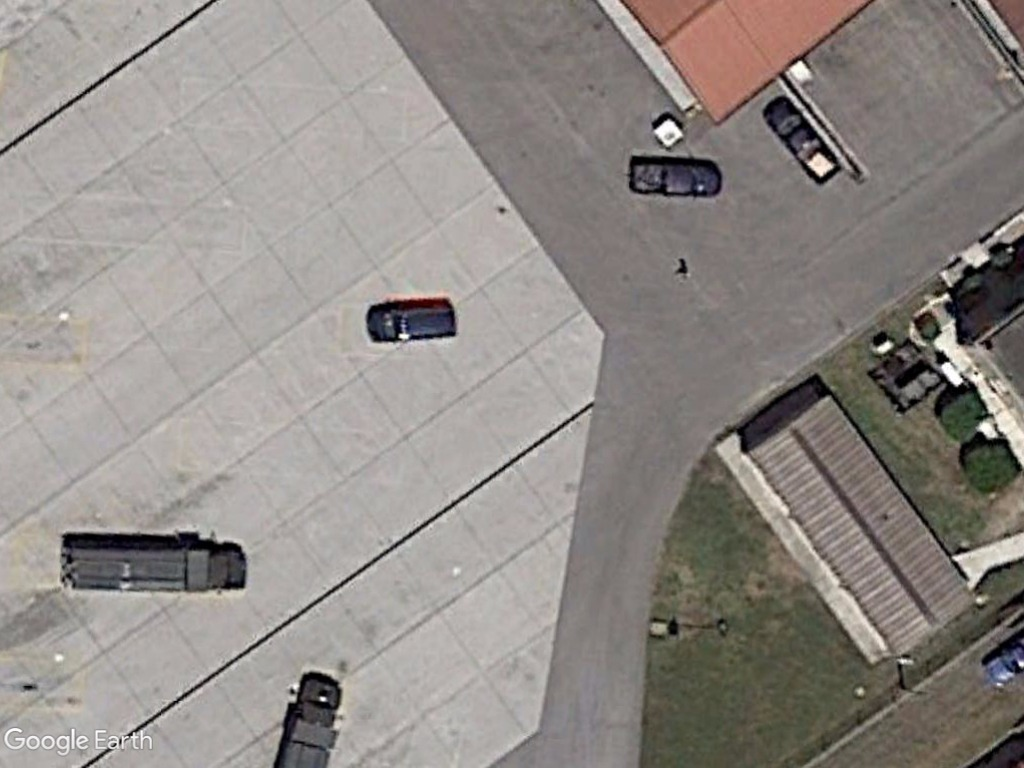other: (759, 96, 844, 185), (626, 156, 726, 200)
truck: (54, 536, 257, 601)
van: (366, 297, 461, 346)
